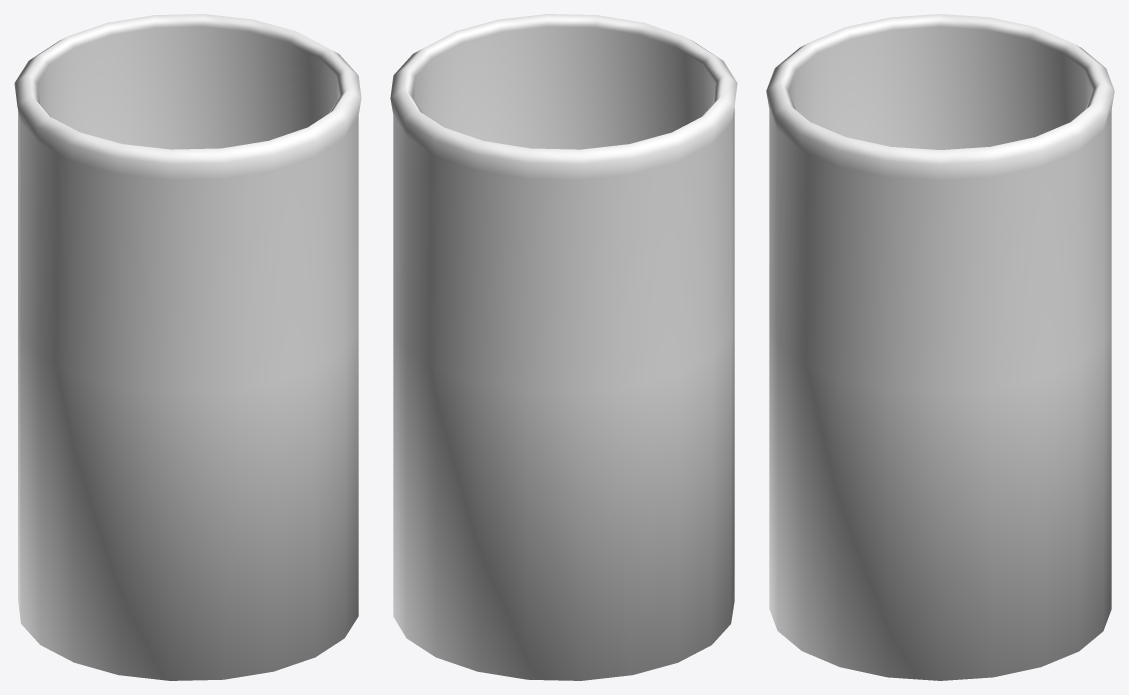
Rendered from LabDesk_Object_BeakerEmpty.fbx.
3 renders of one model, left to right at view 1: azimuth 30°, elevation 25°; view 2: azimuth 150°, elevation 25°; view 3: azimuth 270°, elevation 25°, orthographic.
Parts seen in each view (by area): view 1: polySurface3; view 2: polySurface3; view 3: polySurface3.
Boxes of the visible parts, left/top/right/bottom form: polySurface3: left=14, top=14, right=361, bottom=680; polySurface3: left=390, top=14, right=737, bottom=680; polySurface3: left=766, top=14, right=1114, bottom=680.
Size of the model in its own units: 5.79 by 9.65 by 5.79.
Materials: 1 (1 with a texture image).
